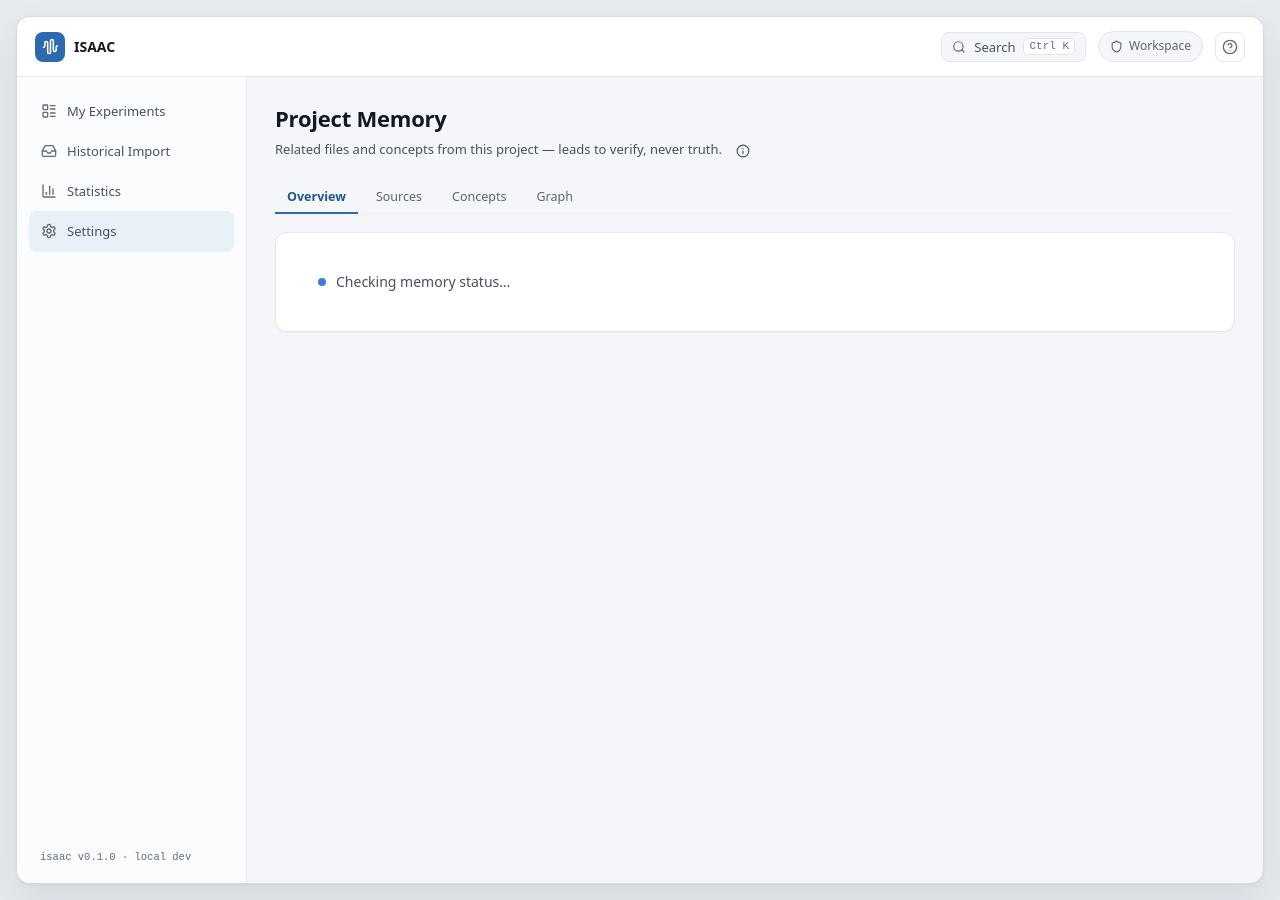
Graph tab — help drawer › is not offered when there is no graph to explain
The image size is (1280, 900).
Click the tab "Graph" at coordinates (555, 198), box left=524, top=181, right=585, bottom=214
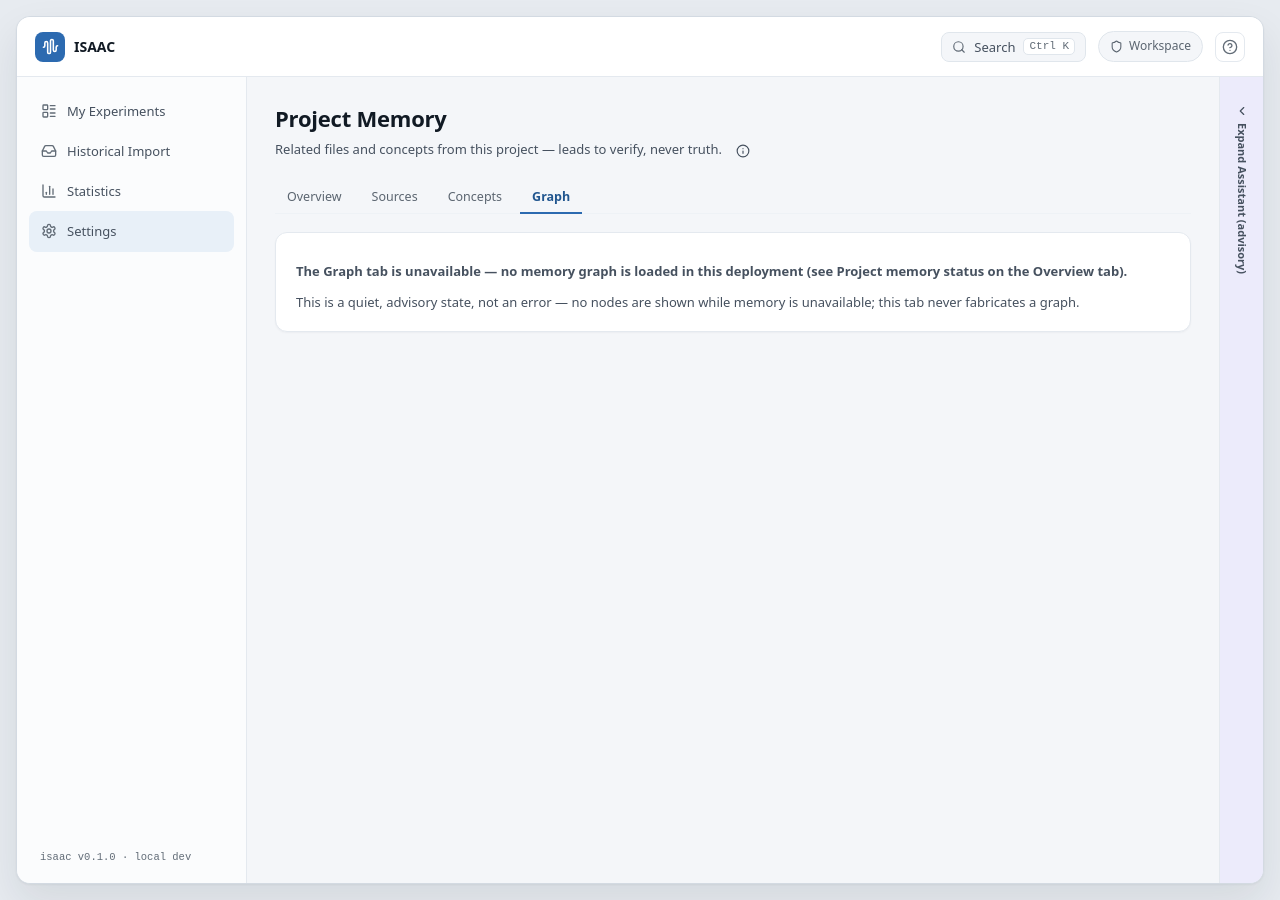
expect the text "Graph tab is unavailable" is shown: met, box left=296, top=262, right=1127, bottom=280
